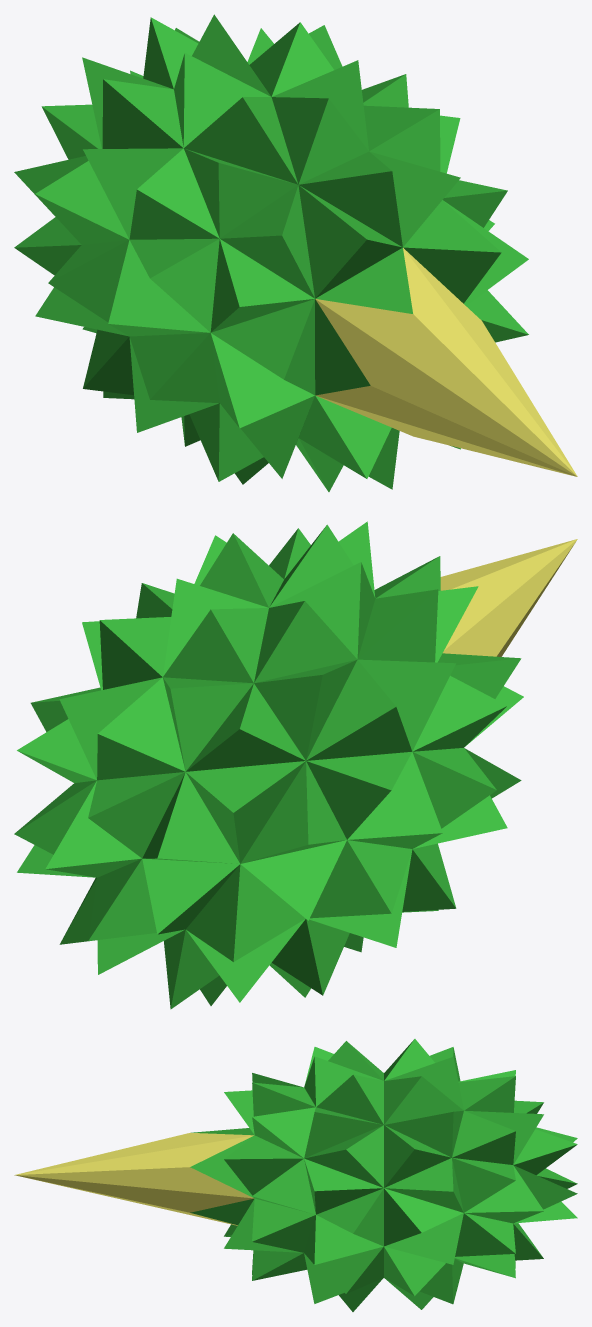
File: pin-apple.fbx
3 renders of one model, top to bottom at view 1: azimuth 30°, elevation 25°; view 2: azimuth 150°, elevation 25°; view 3: azimuth 270°, elevation 25°, orthographic. The views are drawn at different scales.
Visible parts, largest first — view 1: Icosphere; view 2: Icosphere; view 3: Icosphere.
Boxes of the visible parts, x1,y1,x2,y2 form: Icosphere: (14, 14, 577, 491); Icosphere: (14, 521, 577, 1009); Icosphere: (14, 1039, 577, 1311).
Size of the model in its own units: 89.71 by 85.36 by 183.
